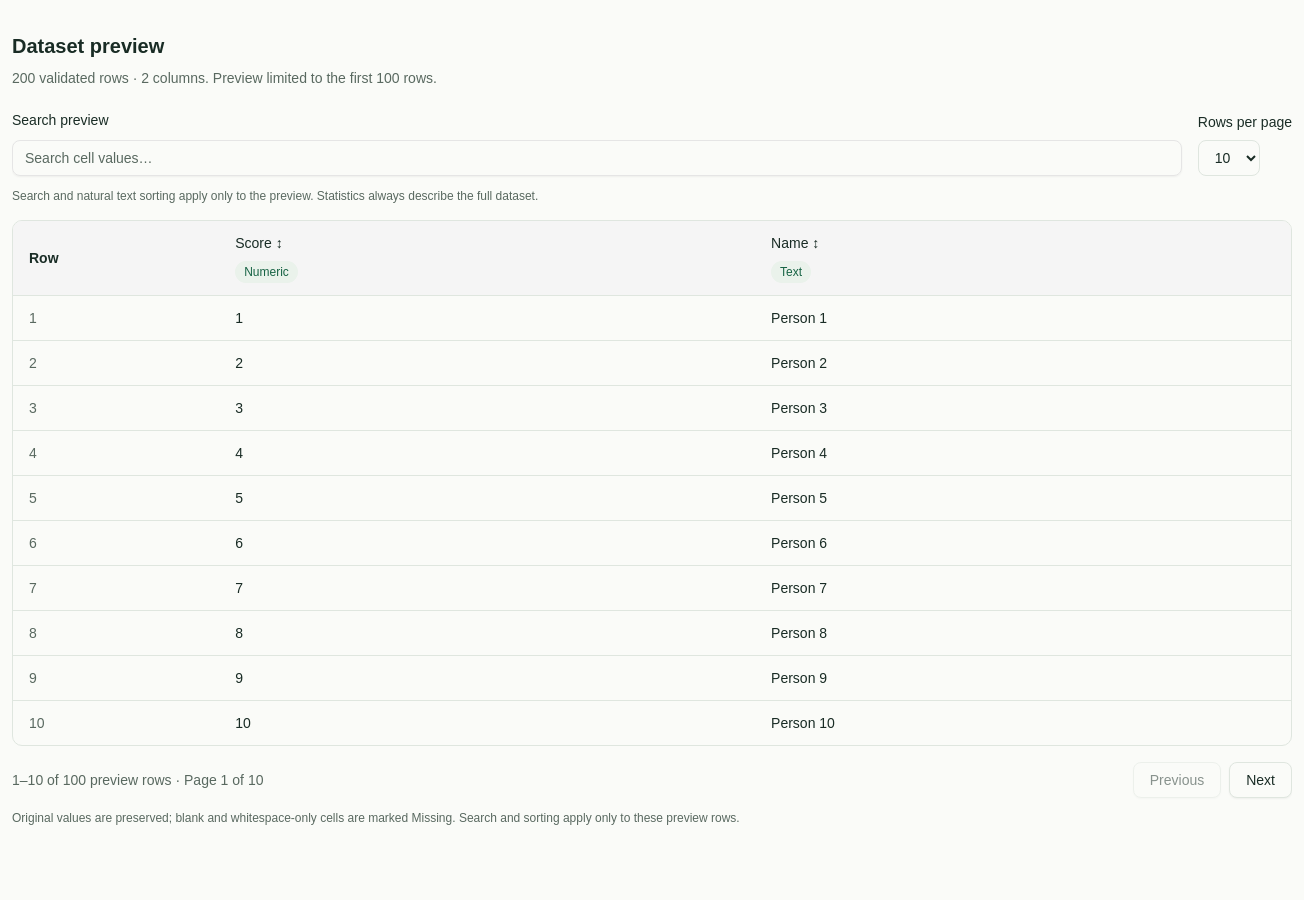
Test case: searches across preview values and resets pagination
Click the button "Next".
click(1261, 780)  # box [1229, 762, 1292, 798]
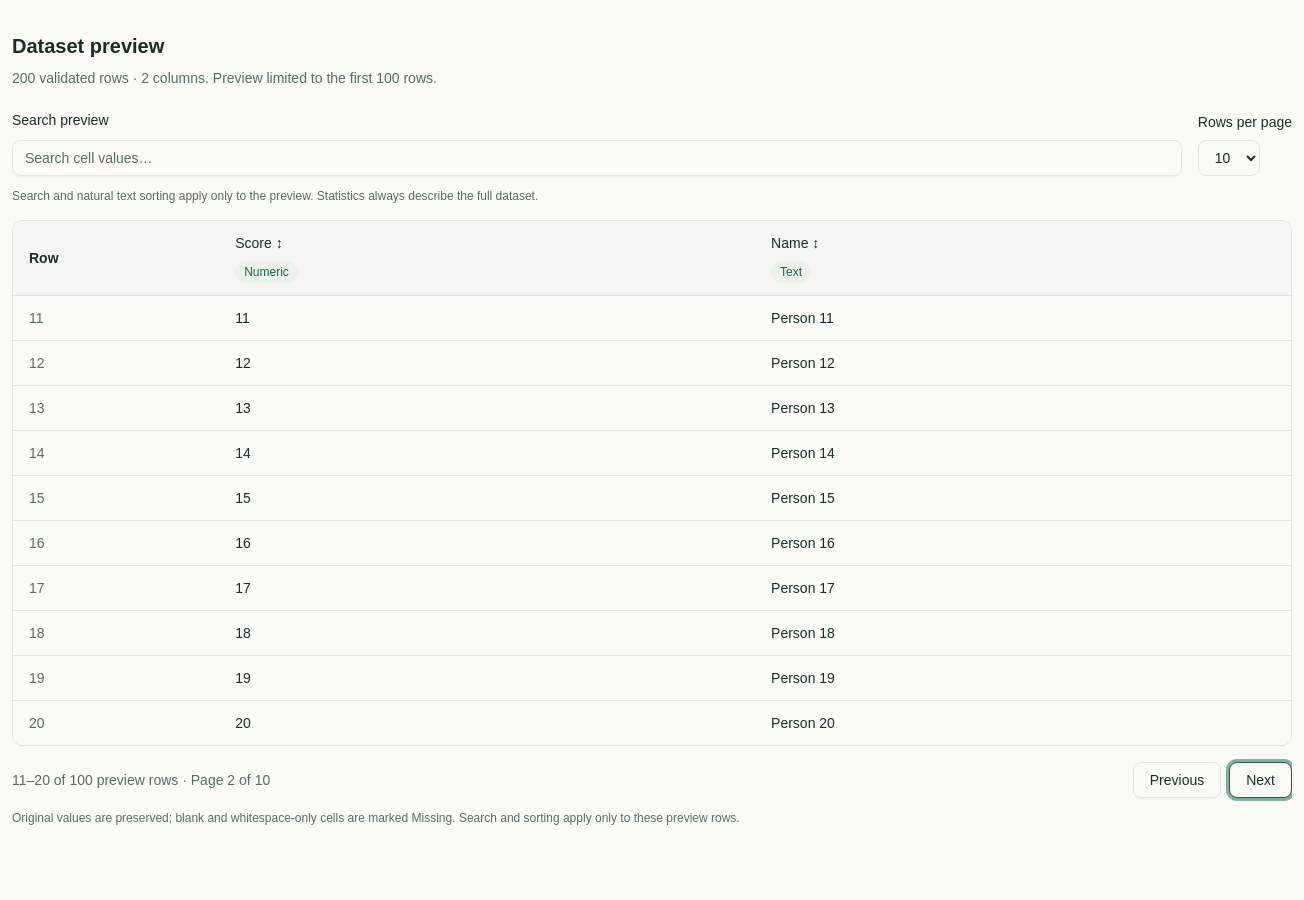
Type "PERSON 100" into the field labelled "Search preview".
click(597, 158); type("PERSON 100")  # box [12, 140, 1182, 176]
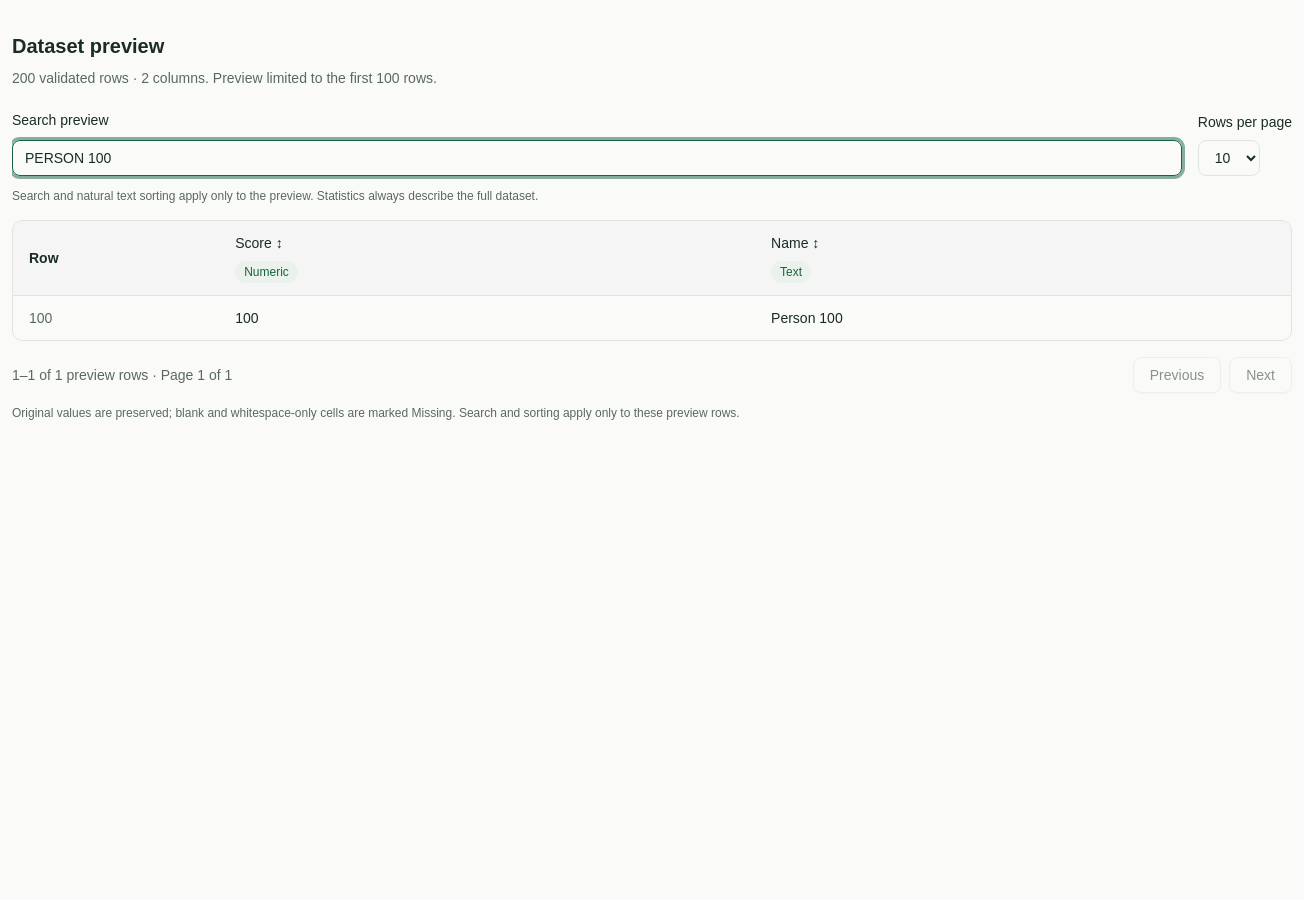
expect the number of rows is 2: met, box [13, 221, 1291, 295]; [13, 296, 1291, 340]
expect the message shows "Page 1 of 1": met, box [12, 365, 232, 385]
Replace the text in the field labelled "Search preview" with "absent" at coordinates (597, 158), box [12, 140, 1182, 176]
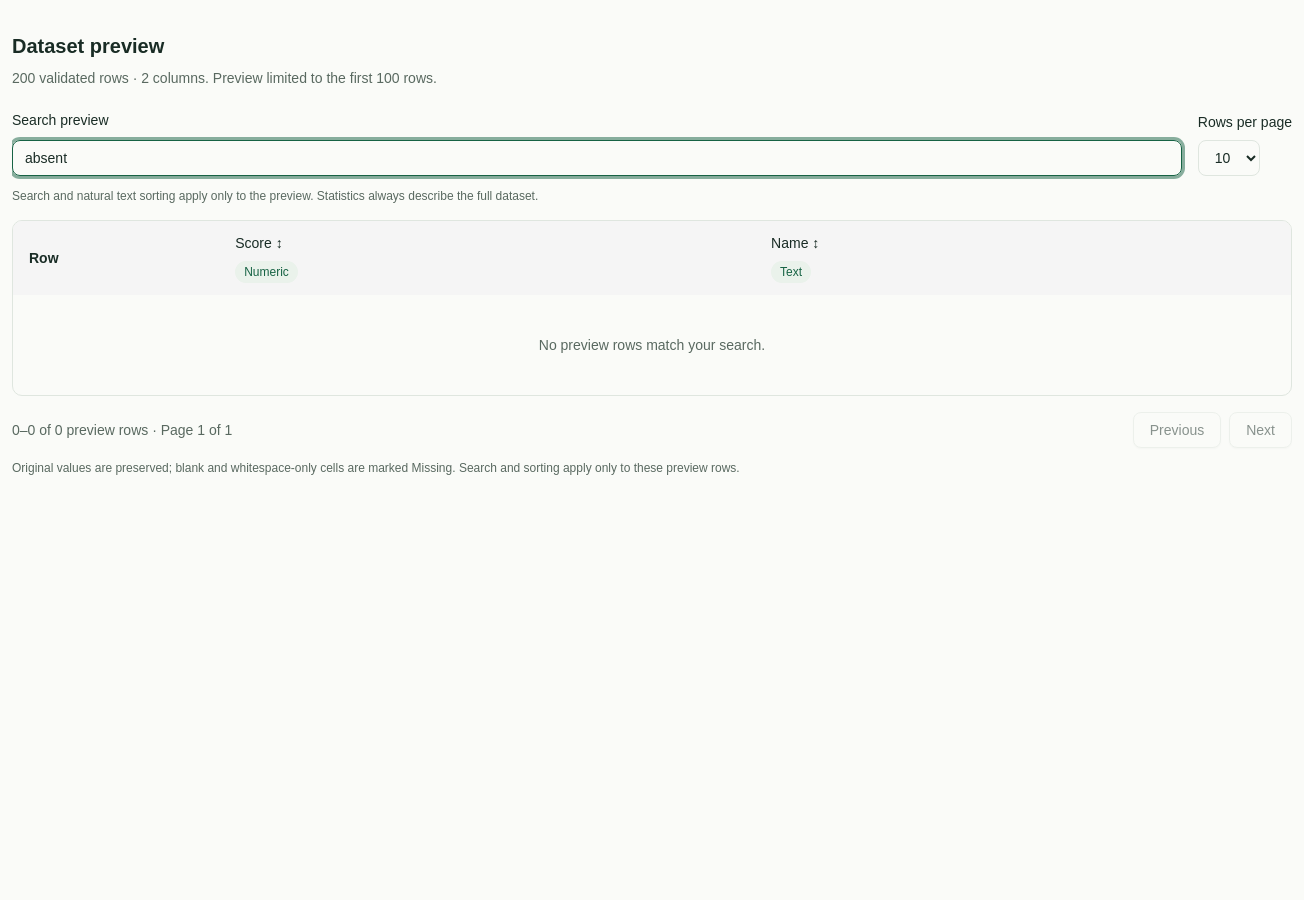
expect the text "No preview rows match your search." is shown: met, box [13, 295, 1291, 395]
expect the message shows "0–0 of 0": met, box [12, 420, 232, 440]
